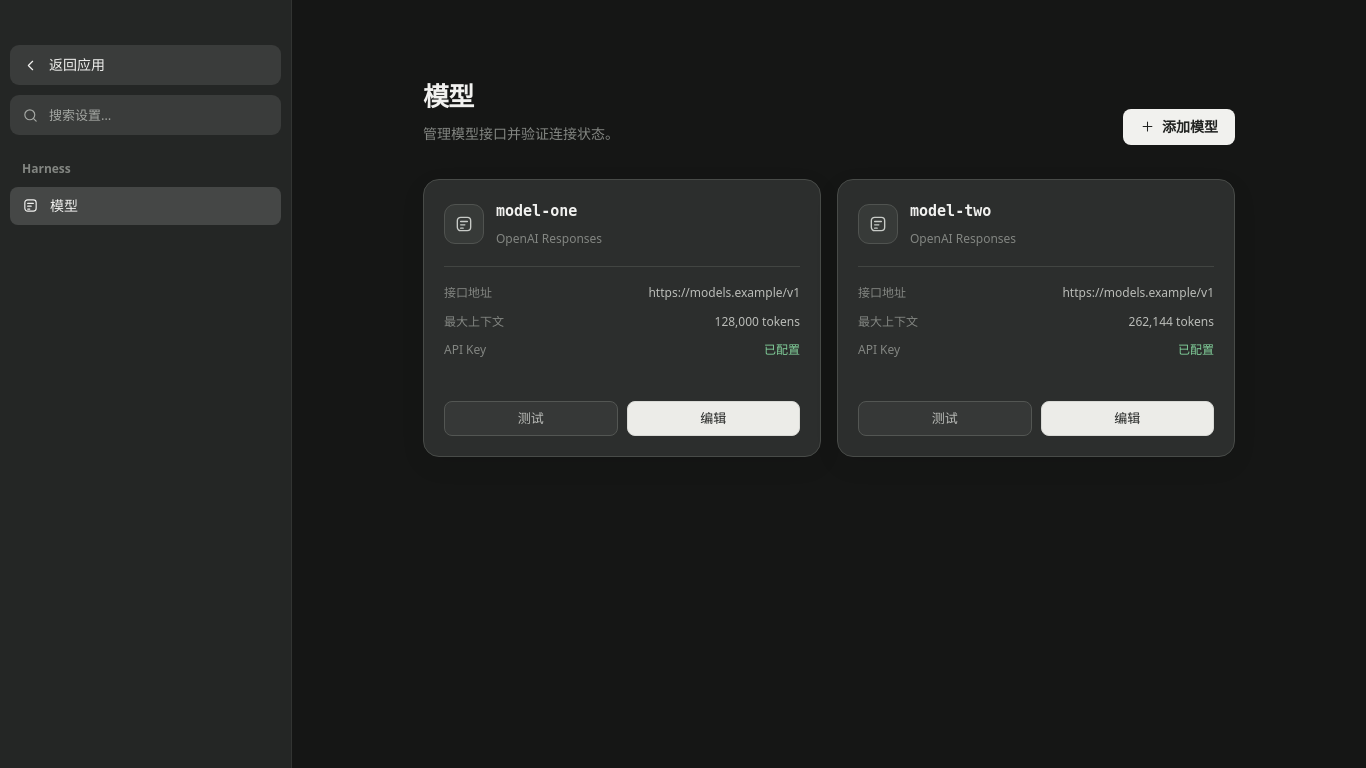
Test: SimpleModelSettings › shows product-facing errors instead of Electron IPC details
This screenshot has width=1366, height=768.
expect the heading "model-one" is shown: met, box [496,202,577,220]
Click the button "测试" below "128,000": (531, 418) [444,401,618,436]
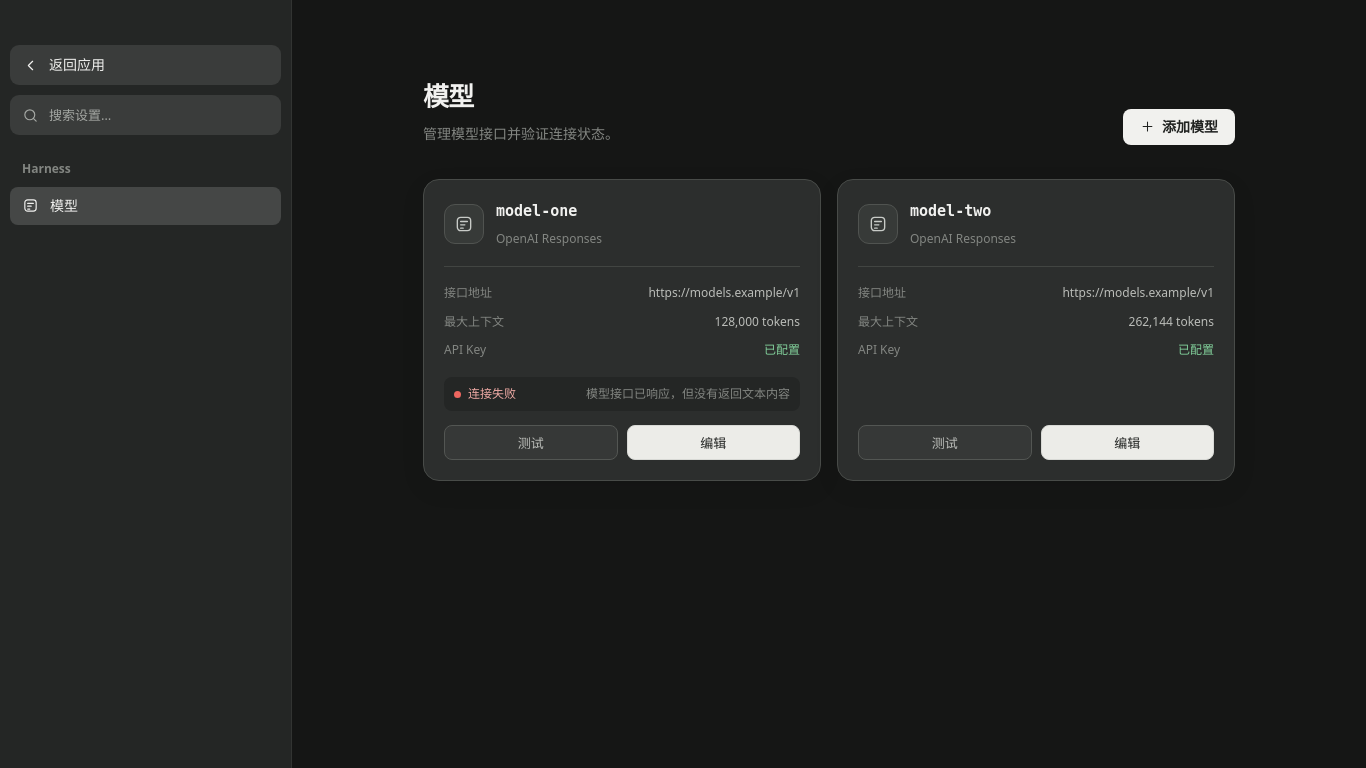
expect the text "模型接口已响应，但没有返回文本内容" is shown: met, box [586,385,790,403]
